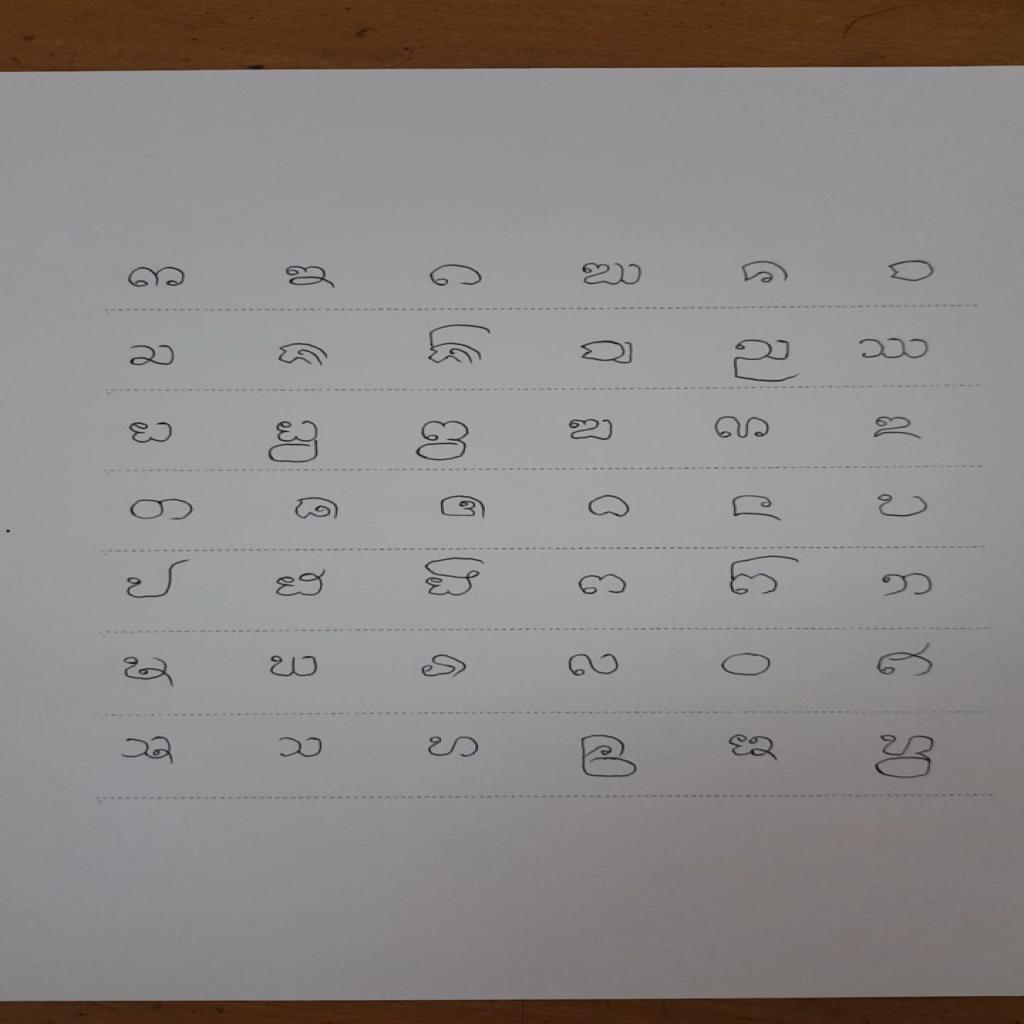LN001: (123, 264, 192, 292)
LN002: (282, 264, 341, 293)
LN003: (424, 263, 489, 291)
LN004: (577, 260, 651, 290)
LN005: (737, 259, 795, 288)
LN006: (885, 258, 941, 285)
LN007: (124, 342, 182, 370)
LN008: (273, 339, 336, 372)
LN009: (424, 321, 499, 369)
LN010: (576, 338, 640, 368)
LN011: (730, 337, 808, 386)
LN012: (855, 336, 938, 364)
LN013: (126, 419, 179, 447)
LN014: (265, 418, 325, 467)
LN015: (414, 419, 475, 465)
LN016: (564, 417, 619, 444)
LN017: (711, 414, 776, 442)
LN018: (868, 414, 929, 443)
LN019: (126, 497, 199, 525)
LN020: (291, 496, 345, 524)
LN021: (436, 493, 493, 522)
LN022: (585, 493, 637, 521)
LN023: (728, 493, 787, 524)
LN024: (873, 492, 934, 521)
LN025: (123, 558, 195, 603)
LN026: (272, 567, 330, 600)
LN027: (422, 557, 491, 600)
LN028: (575, 573, 633, 598)
LN029: (725, 554, 806, 599)
LN030: (876, 571, 940, 599)
LN031: (120, 654, 180, 690)
LN032: (266, 653, 325, 681)
LN033: (417, 653, 472, 681)
LN034: (565, 652, 625, 680)
LN035: (718, 651, 778, 679)
LN036: (874, 641, 939, 680)
LN037: (116, 734, 181, 768)
LN038: (275, 734, 328, 762)
LN039: (424, 734, 485, 761)
LN040: (576, 733, 644, 781)
LN041: (725, 732, 783, 765)
LN042: (870, 732, 942, 782)
